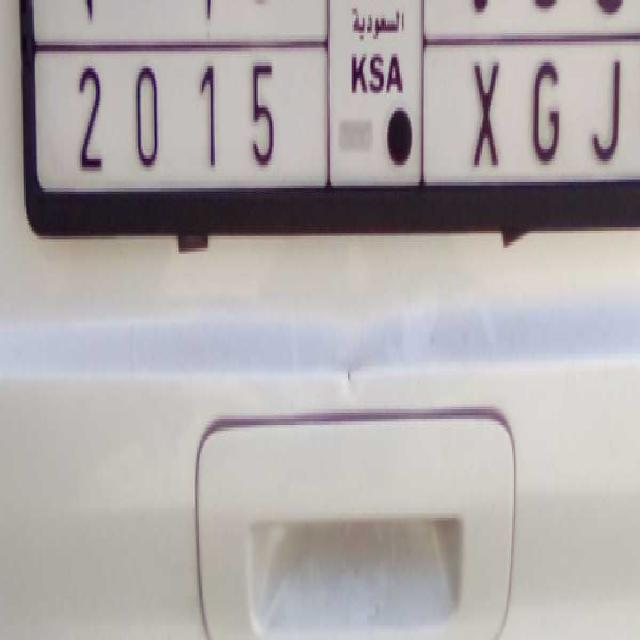license_plate: (34, 44, 640, 191)
